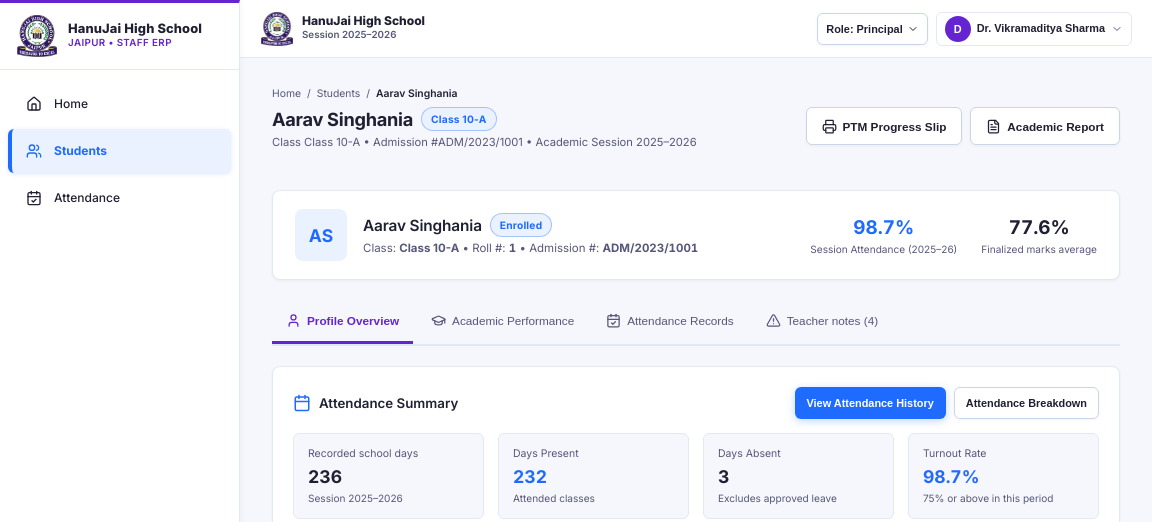
Test: HanuJai ERP Foundation — Core Workflows › shows final academic charts and an evidence-based marks comparison on a student profile
This screenshot has width=1152, height=522.
Check: the text "Aarav Singhania" is shown, box [376,86,457,101]
Click the tab "Academic Performance" at {"x": 503, "y": 322}, box [417,300,588,344]
(page scrolled)
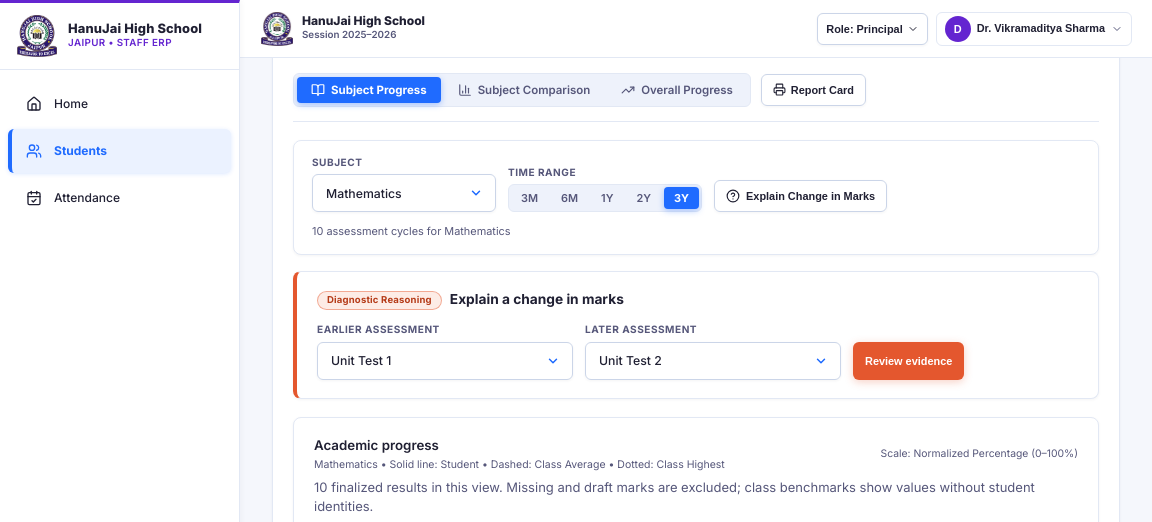
Check: the heading "Academic progress" is shown, box [314,437,439,453]
Check: the text "finalized result" is shown, box [328,479,421,495]
Click the button "Review evidence" at {"x": 909, "y": 361}, box [853,342,964,380]
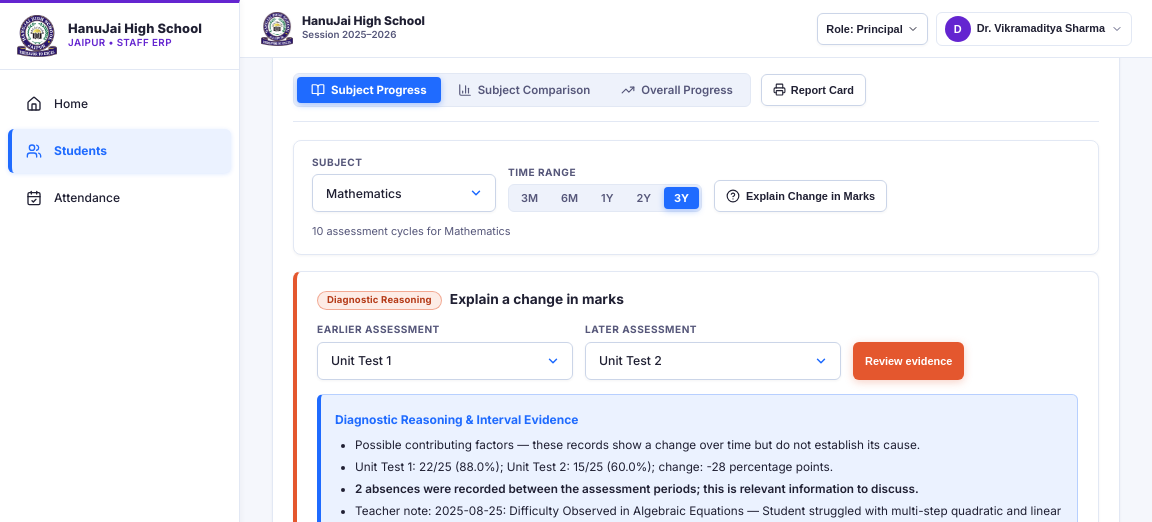
Check: the list item "Possible contributing factors" is shown, box [355,438,920,452]
Check: the list item "22/25" is shown, box [355,460,833,474]
Check: the list item "absences were recorded between the assessment periods" is shown, box [355,482,919,496]
